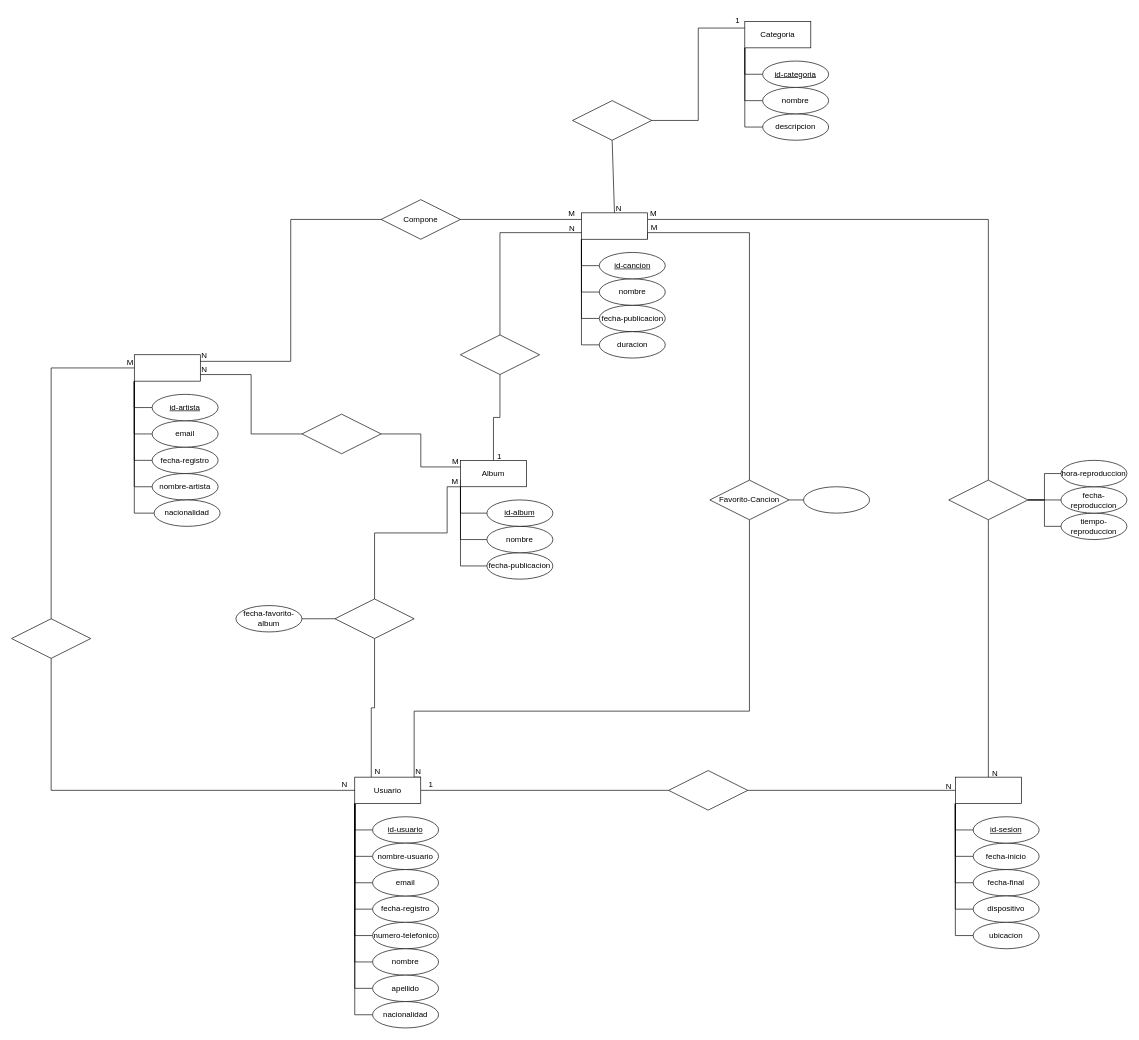
Some shapes in this 1139 by 1040 pixel diagram are drawn without their labels. The shapes that lost their labels are listed below. From the top down, each one's box as (x1, y1, x2, y2) in pixels, then its label:
(572, 100, 652, 140): Pertenece
(581, 212, 647, 239): Cancion
(134, 354, 200, 381): Artista
(460, 334, 540, 375): Contiene
(301, 413, 381, 454): Crea
(803, 486, 870, 513): fecha-favorito-cancion
(948, 479, 1028, 520): Reproducida
(11, 618, 91, 658): Sigue
(334, 598, 414, 639): Favorito-Album
(668, 770, 748, 810): Inicia
(955, 776, 1021, 804): Sesion
